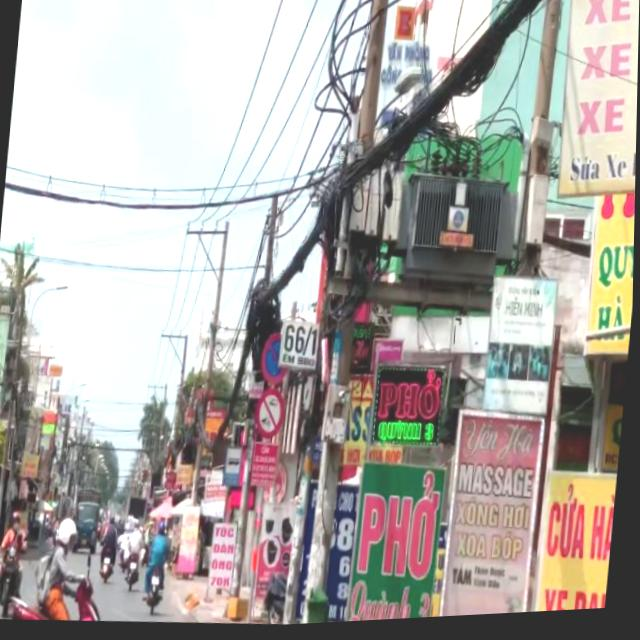Cam do xe: (260, 334, 293, 388)
